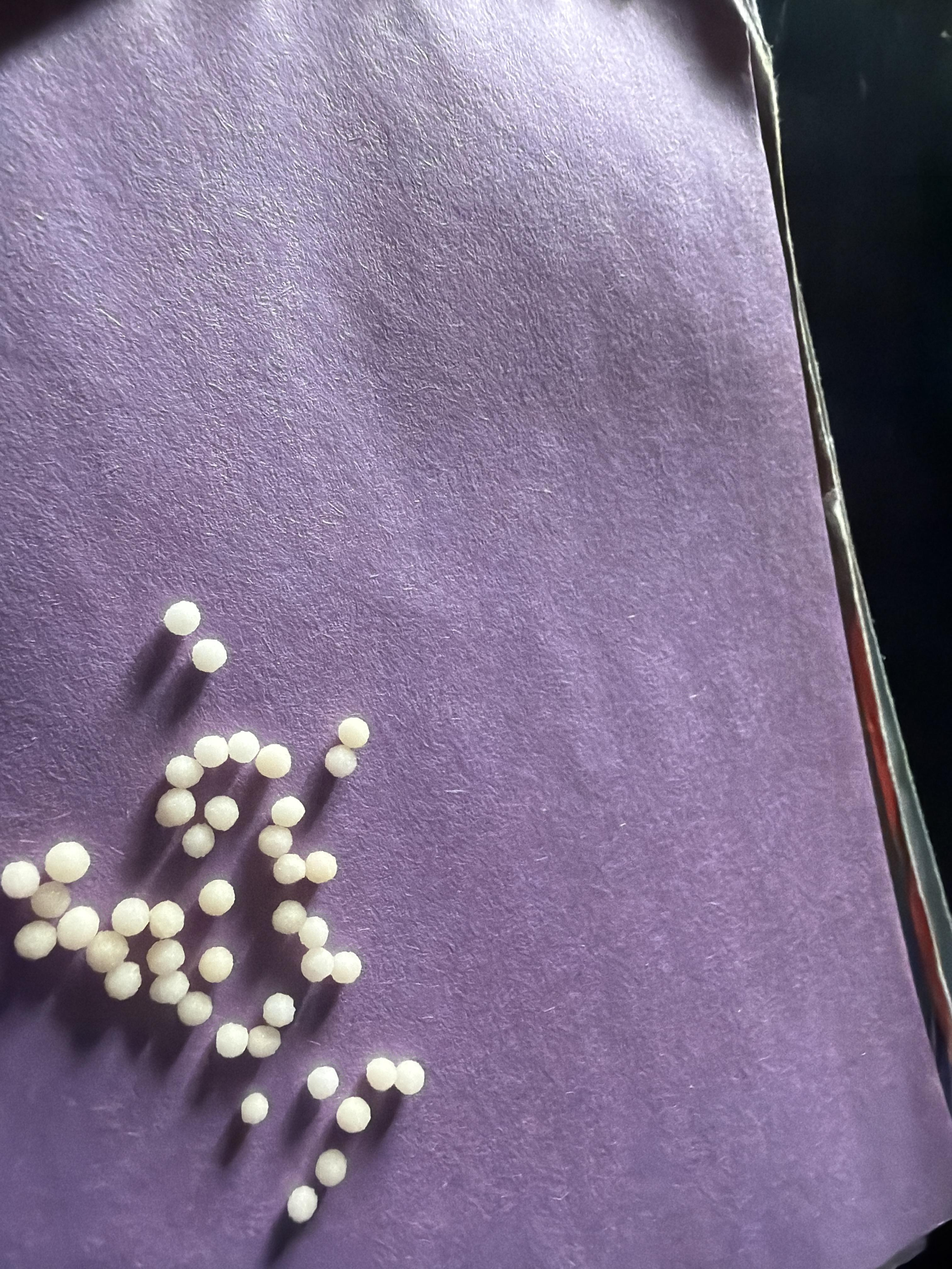pill: (44, 841, 90, 884), (57, 906, 99, 950), (86, 930, 128, 974), (14, 921, 57, 960), (155, 787, 195, 827), (31, 881, 71, 919), (111, 897, 149, 937), (0, 861, 39, 899), (104, 960, 141, 1000), (149, 970, 189, 1005), (198, 879, 235, 916), (146, 939, 184, 975), (163, 600, 201, 636), (149, 900, 184, 939), (165, 755, 204, 789), (336, 1096, 371, 1133), (198, 946, 233, 983), (204, 795, 239, 831), (255, 744, 292, 778), (177, 991, 212, 1026), (193, 734, 229, 768), (191, 639, 227, 673), (258, 824, 292, 859), (301, 946, 334, 982), (315, 1149, 346, 1187), (262, 993, 295, 1028), (272, 901, 307, 934), (182, 823, 214, 859), (271, 795, 305, 828), (394, 1059, 425, 1095), (287, 1186, 317, 1223), (325, 744, 357, 778), (297, 915, 329, 949), (307, 1066, 339, 1100), (216, 1023, 247, 1058), (305, 850, 337, 883), (248, 1025, 280, 1058), (228, 731, 260, 764), (338, 716, 369, 749), (366, 1057, 396, 1091), (273, 853, 305, 884), (332, 951, 362, 984), (241, 1092, 269, 1125)
